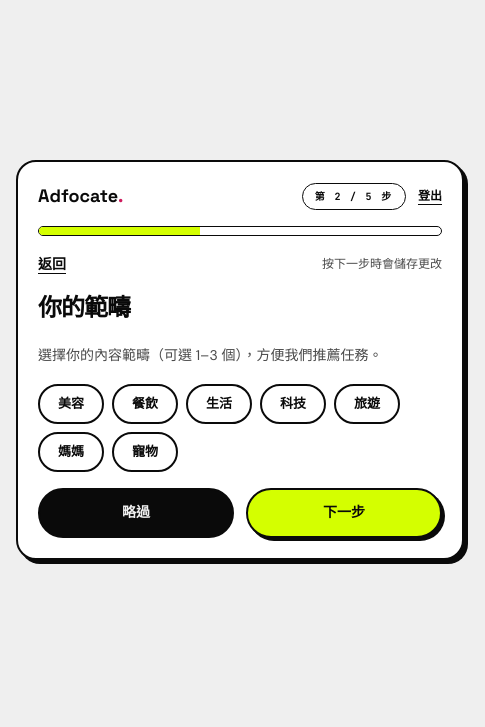
Test: Onboarding wizard › can skip categories and still advance
Click the button "略過" at {"x": 136, "y": 513}, box [38,488,234,538]
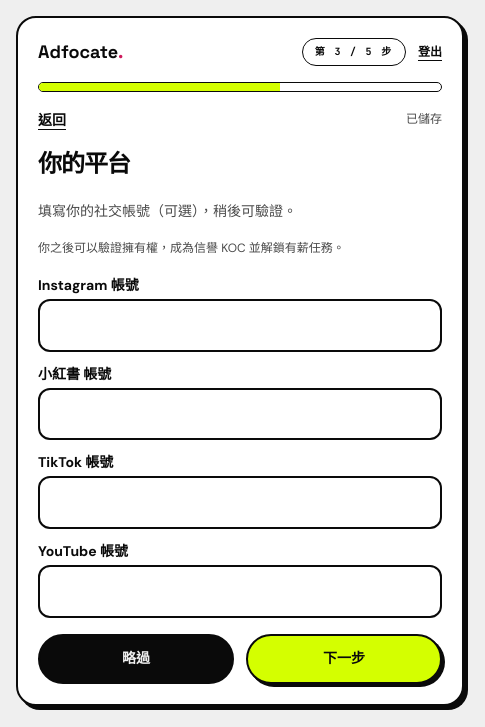
Expected: the heading "你的平台" is shown, [38,148,130,179]
